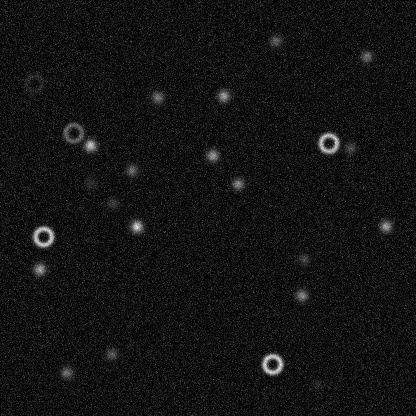Ring: (260, 352, 284, 376), (22, 71, 46, 95), (316, 130, 340, 154), (31, 224, 55, 248), (61, 120, 85, 144)
Spot: (104, 195, 120, 211), (342, 139, 358, 155), (267, 32, 283, 48), (31, 261, 47, 277), (58, 364, 74, 380), (295, 251, 311, 267), (82, 137, 98, 153), (103, 345, 119, 361), (358, 48, 374, 64), (128, 218, 144, 234), (215, 87, 231, 103), (293, 287, 309, 303), (308, 376, 324, 392), (149, 89, 165, 105), (123, 162, 139, 178), (377, 218, 393, 234), (204, 147, 220, 163), (82, 174, 98, 190), (229, 175, 245, 191)
